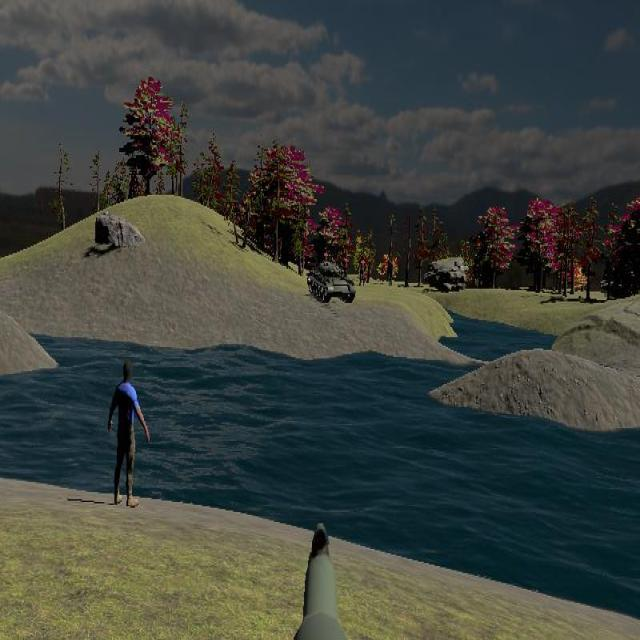Human: (107, 359, 150, 508)
Tank: (307, 260, 356, 304)
